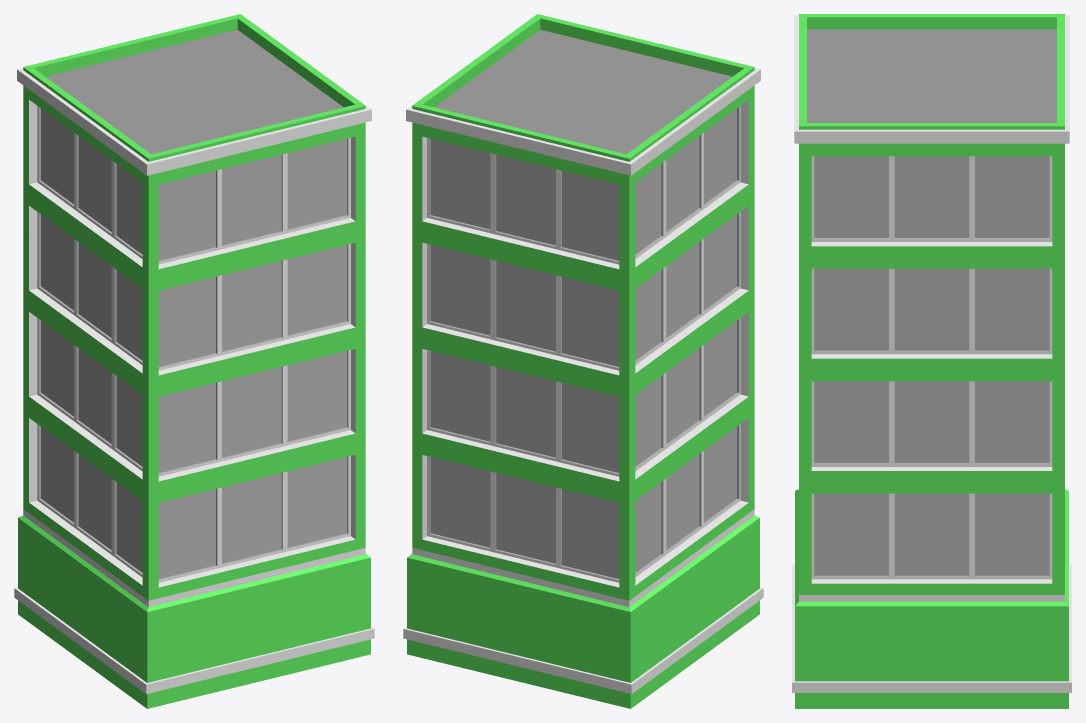
The model's file is SM_House_05_02.FBX.
The picture shows the model from 3 angles, left to right: view 1: azimuth 30°, elevation 25°; view 2: azimuth 150°, elevation 25°; view 3: azimuth 270°, elevation 25°; orthographic projection. The views are drawn at different scales.
Parts seen in each view (by area): view 1: SM_House_05_02; view 2: SM_House_05_02; view 3: SM_House_05_02.
Boxes of the visible parts, x1=… form: SM_House_05_02: x1=14, y1=14, x2=374, y2=708; SM_House_05_02: x1=403, y1=14, x2=763, y2=708; SM_House_05_02: x1=792, y1=14, x2=1071, y2=708.
Bounding box in the file's own units: 3.16 × 7.23 × 3.16.
1 material, 1 textured.
